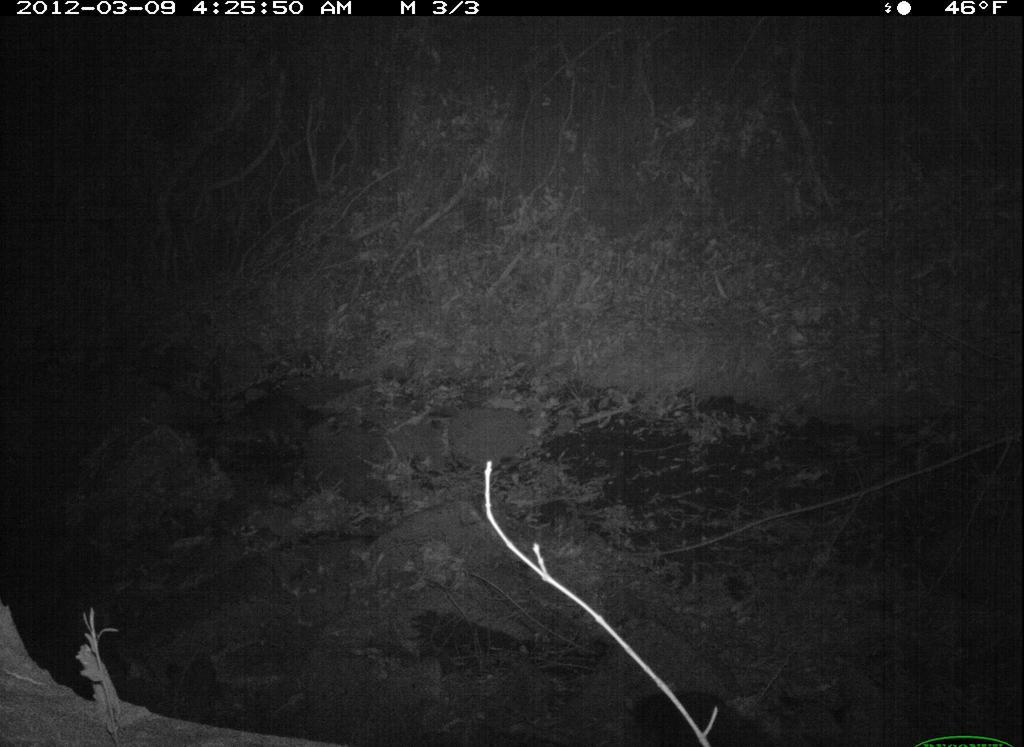raccoon: (235, 382, 337, 460)
